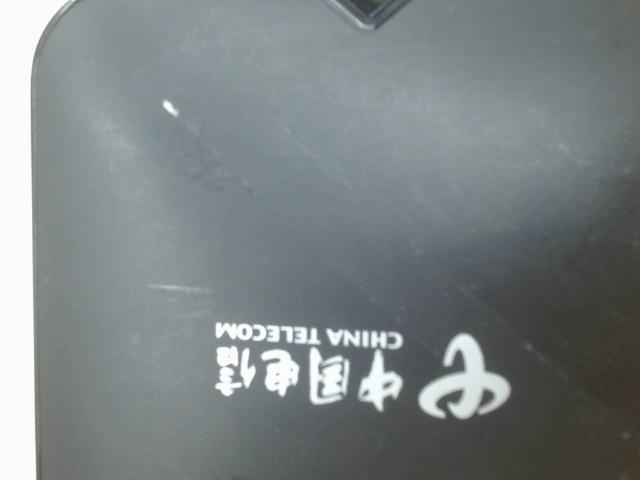AB_ChinaTelecom: (199, 299, 520, 436)
